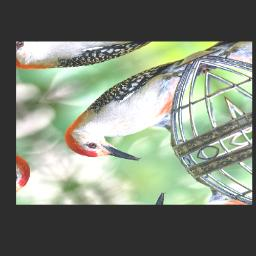Woodpecker: (43, 51, 240, 179)
